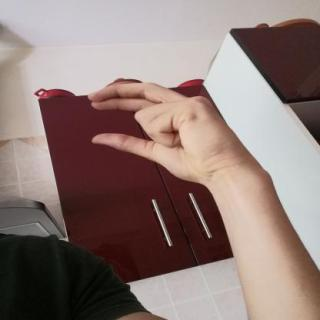DHELL: (77, 75, 265, 188)
